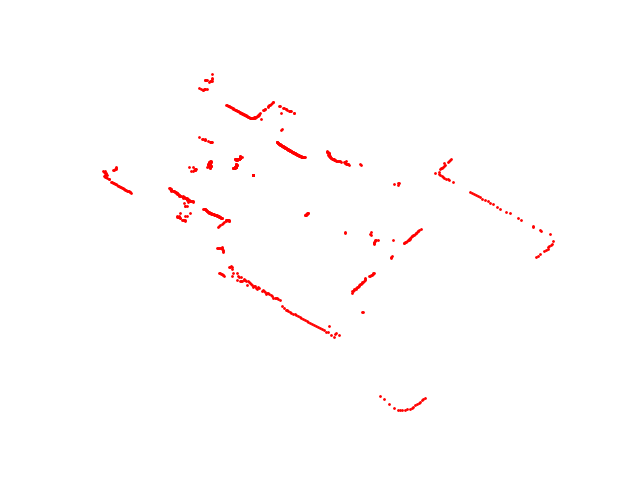person: (186, 158, 215, 175), (231, 154, 244, 172)
